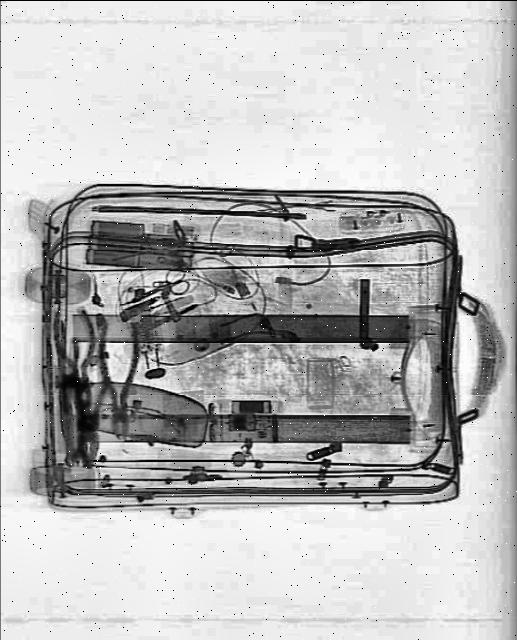Pliers: (59, 354, 115, 468), (52, 305, 104, 415), (99, 312, 143, 436)
